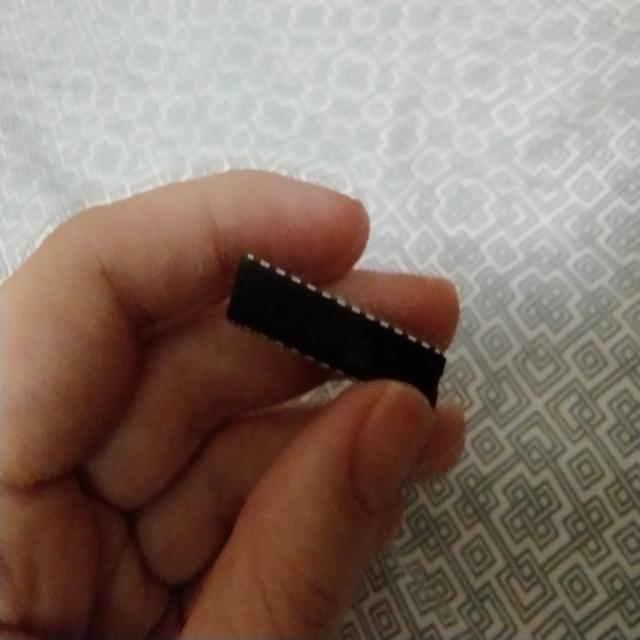atmega: (223, 249, 450, 413)
